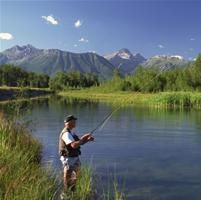person without safety: (56, 114, 96, 181)
